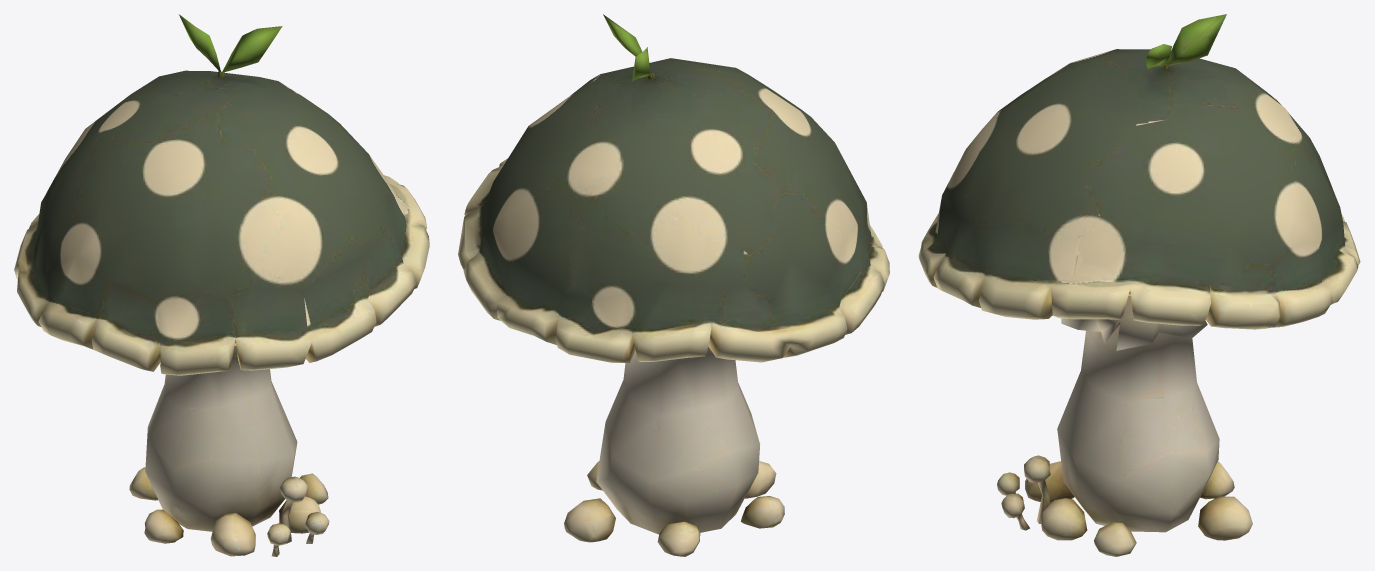
File: spore_burster.glb
3 renders of one model, left to right at view 1: azimuth 30°, elevation 25°; view 2: azimuth 150°, elevation 25°; view 3: azimuth 270°, elevation 25°, orthographic. The views are drawn at different scales.
Visible parts, largest first — view 1: tripo_node_c0af9610-c74b-4b73-8c9b-8ed3c455eb22; view 2: tripo_node_c0af9610-c74b-4b73-8c9b-8ed3c455eb22; view 3: tripo_node_c0af9610-c74b-4b73-8c9b-8ed3c455eb22.
Boxes of the visible parts, bbox=[...] form: tripo_node_c0af9610-c74b-4b73-8c9b-8ed3c455eb22: bbox=[14, 14, 429, 556]; tripo_node_c0af9610-c74b-4b73-8c9b-8ed3c455eb22: bbox=[458, 14, 889, 556]; tripo_node_c0af9610-c74b-4b73-8c9b-8ed3c455eb22: bbox=[918, 14, 1360, 556].
Bounding box in the file's own units: 0.8363 × 1.05 × 0.8445.
1 material, 1 textured.
